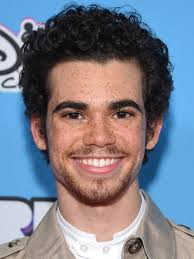without_mask: (31, 56, 164, 201)
